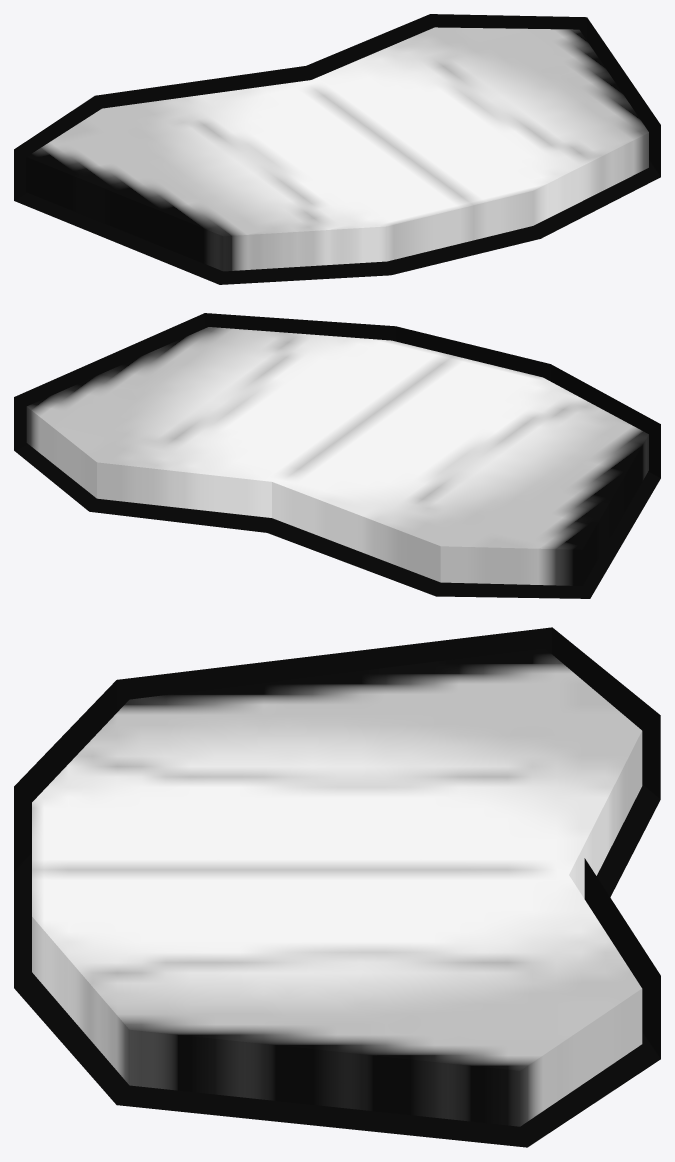
The model's file is Item_Apparel_Corset_Things_Pawn_Humanlike_Apparel_CorsetRoyal_CorsetRoyal_Male.glb.
3 views of the same model, one above another, from view 1: azimuth 30°, elevation 25°; view 2: azimuth 150°, elevation 25°; view 3: azimuth 270°, elevation 25° (orthographic). The views are drawn at different scales.
Visible parts, largest first — view 1: Body, Outline; view 2: Body, Outline; view 3: Body, Outline.
Part boxes in pixels (x1=…): Body: x1=26, y1=27, x2=648, y2=271; Outline: x1=14, y1=14, x2=660, y2=284; Body: x1=26, y1=327, x2=648, y2=585; Outline: x1=14, y1=313, x2=660, y2=598; Body: x1=32, y1=648, x2=642, y2=1126; Outline: x1=14, y1=627, x2=660, y2=1147.
Size of the model in its own units: 0.3319 by 0.0316 by 0.207.
Materials: 2 (1 with a texture image).
